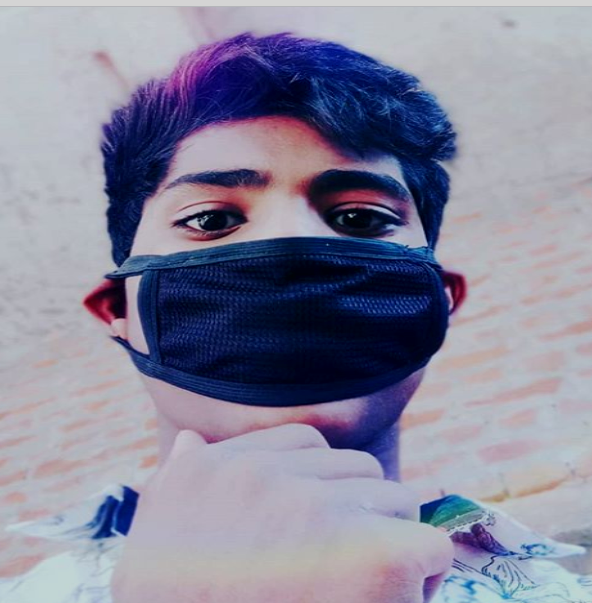mask_weared_incorrect: (87, 34, 469, 457)
